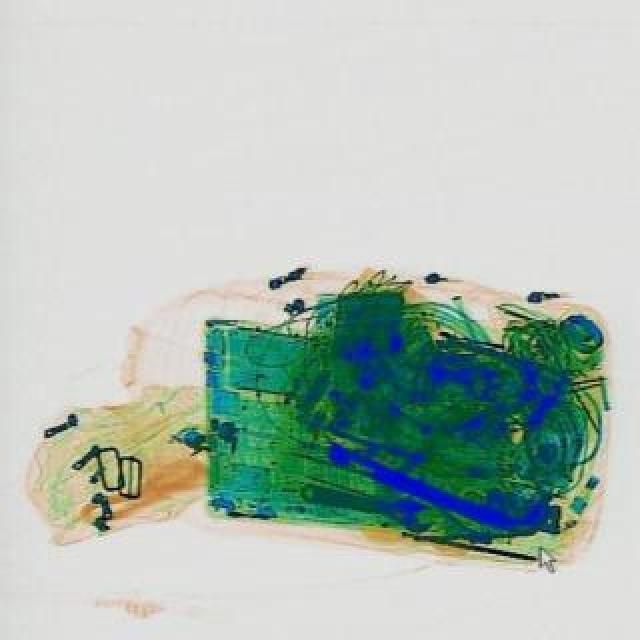scissors: (294, 478, 434, 534)
